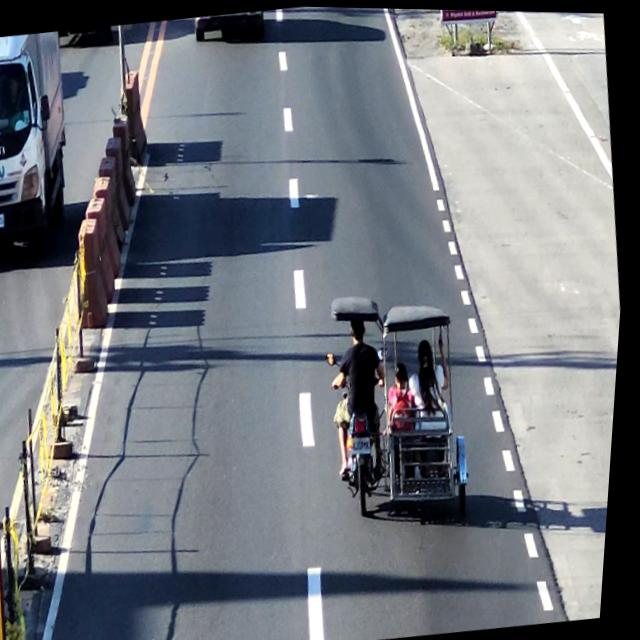Car: (189, 8, 269, 59)
Tricycle: (313, 267, 490, 534)
